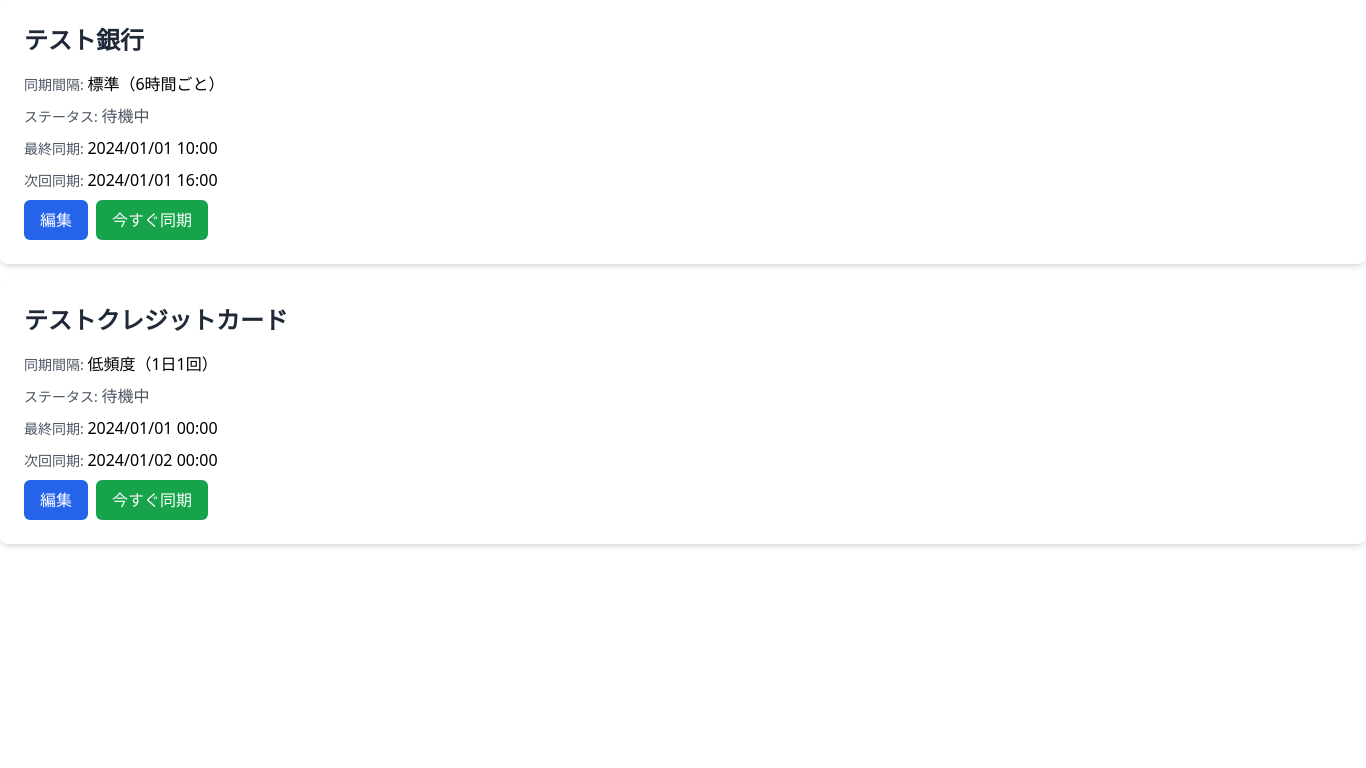
Test: InstitutionSettingsTab › 保存エラー時にエラーメッセージを表示する
Expected: the heading "テスト銀行" is shown, [24,23,144,56]
# 編集ボタンをクリック
Click the button "編集" below "2024/01/01 16:00".
click(56, 220)  # box [24,200,88,240]
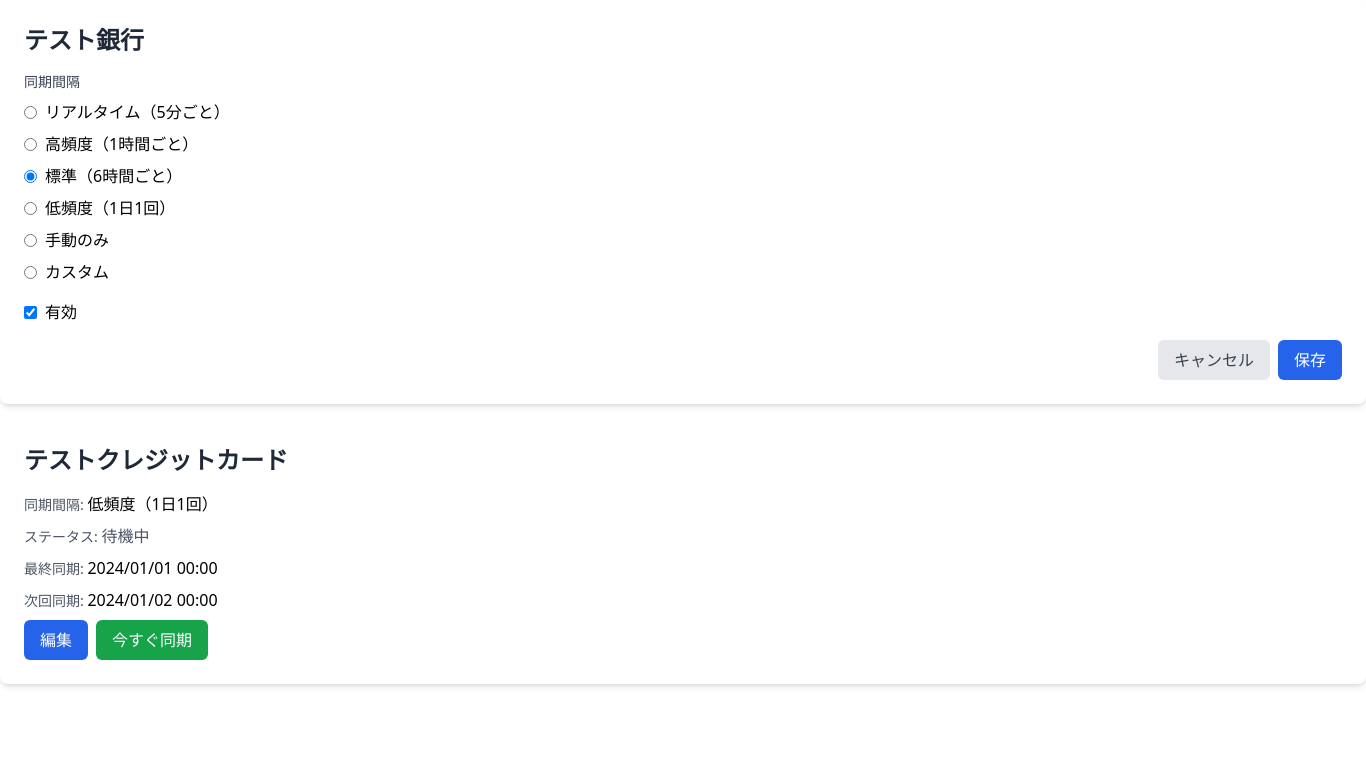
Expected: the text "同期間隔" is shown, [24,72,80,91]
# 保存ボタンをクリック
Click the button "保存".
click(1310, 360)  # box [1278,340,1342,380]
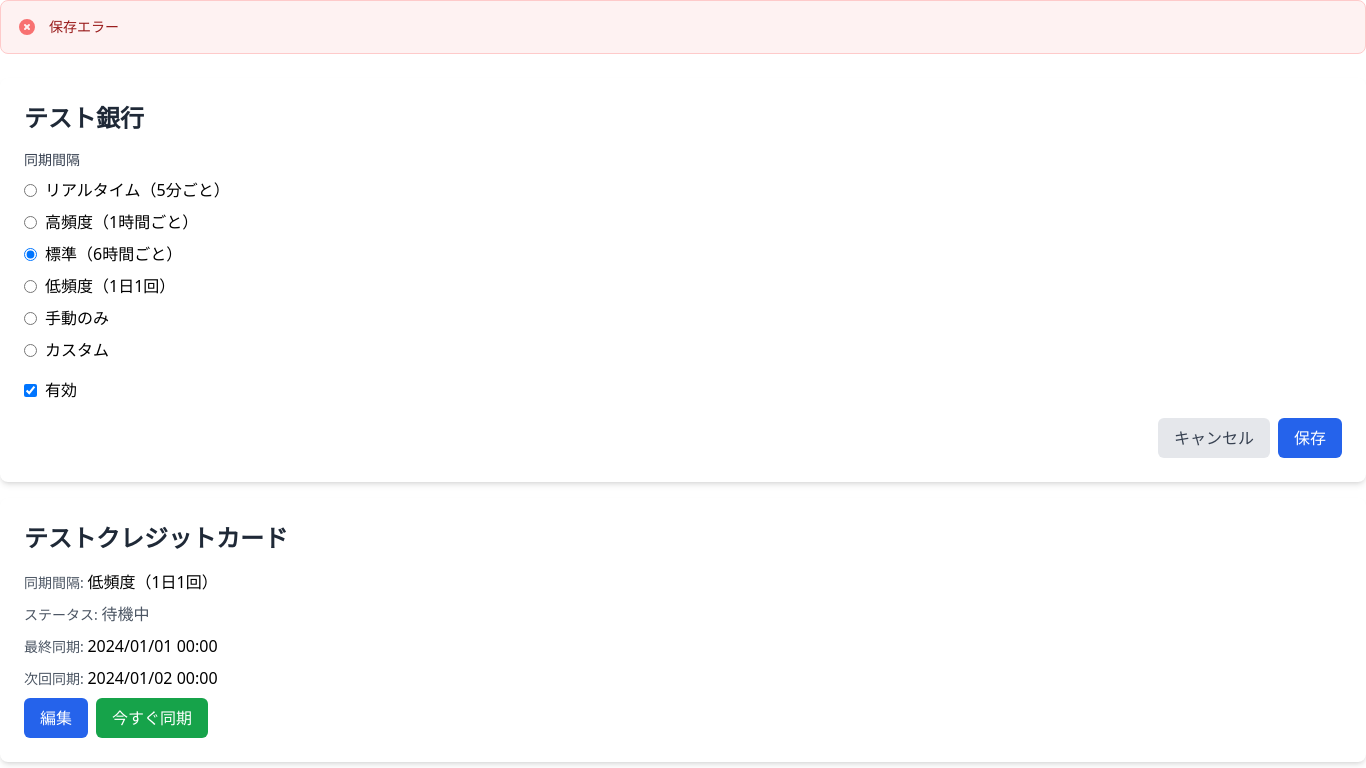
Now the text "保存エラー" is shown, box [49,17,119,37]
